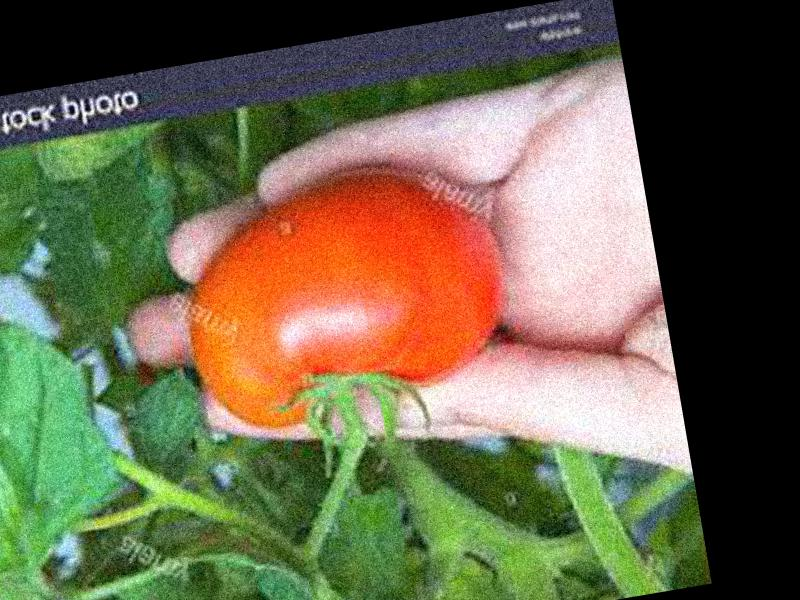Tomato: (169, 156, 525, 439)
